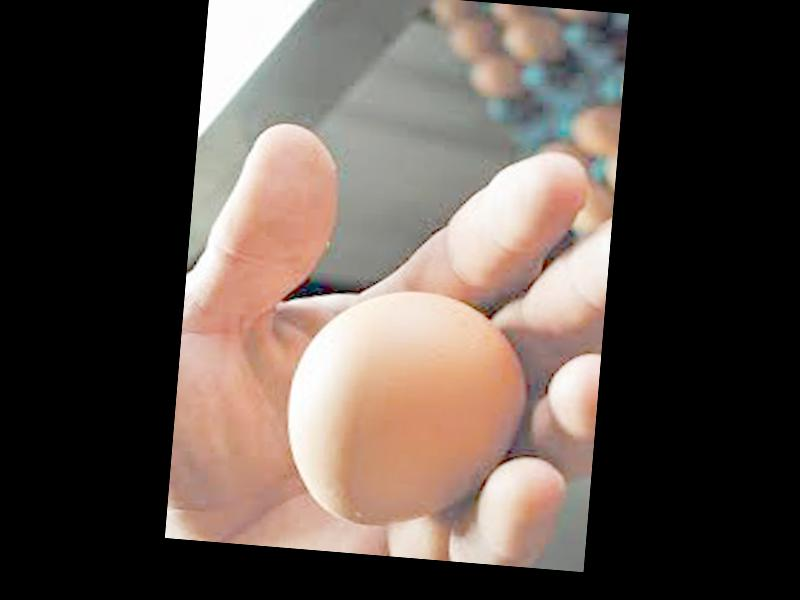Eggs: (280, 281, 536, 541)
